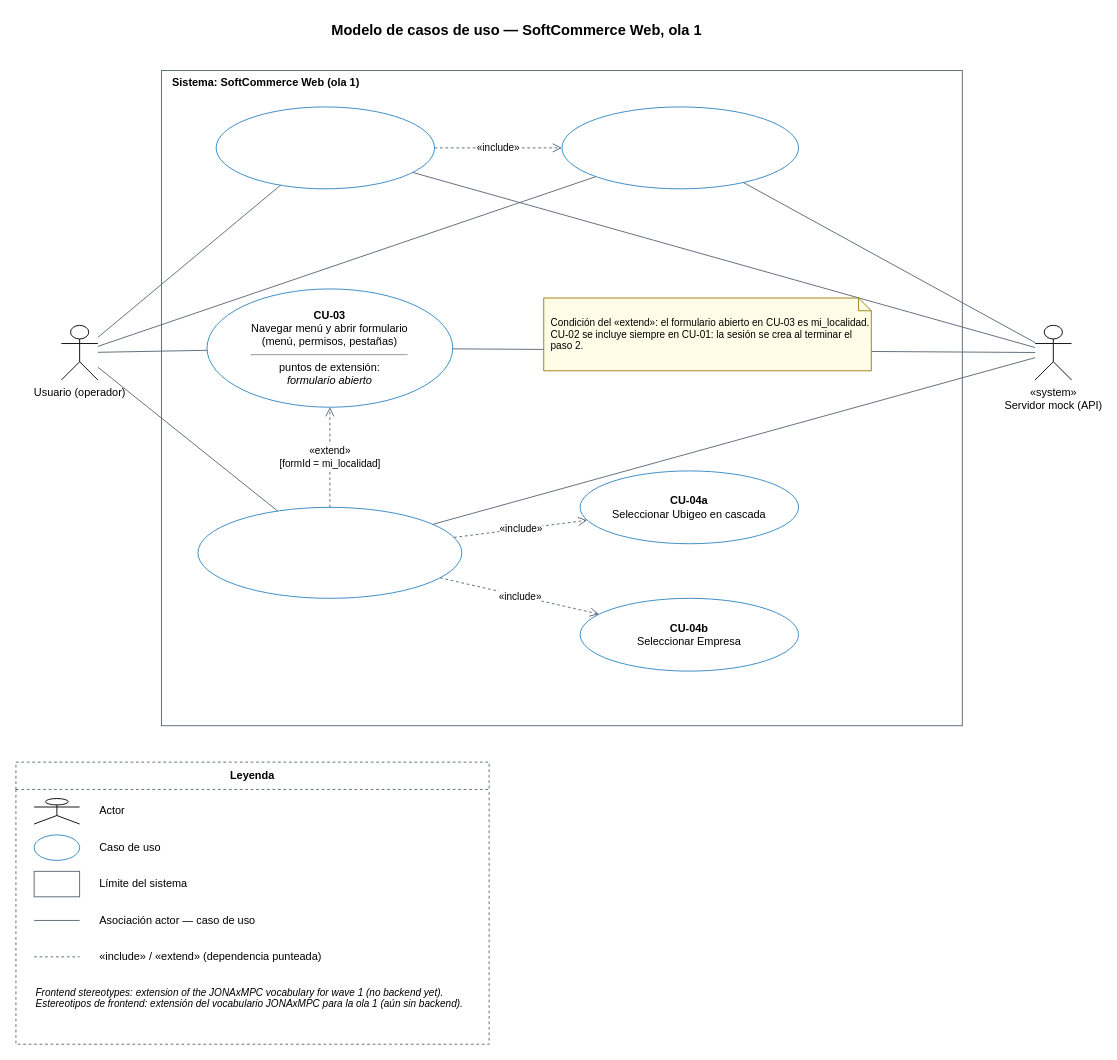
This 1117x1060 diagram has some shape labels left out. The centre of each missing label's shape, as x and y in pixels:
"CU-01 Iniciar sesión (tenant + credenciales)" goes at (325,147).
"CU-02 Seleccionar contexto de trabajo (empresa, punto de venta, período)" goes at (680,147).
"CU-04 Mantener Localidad (INSERT · UPDATE · DELETE lógico · DETAIL · CLONE)" goes at (329,552).
